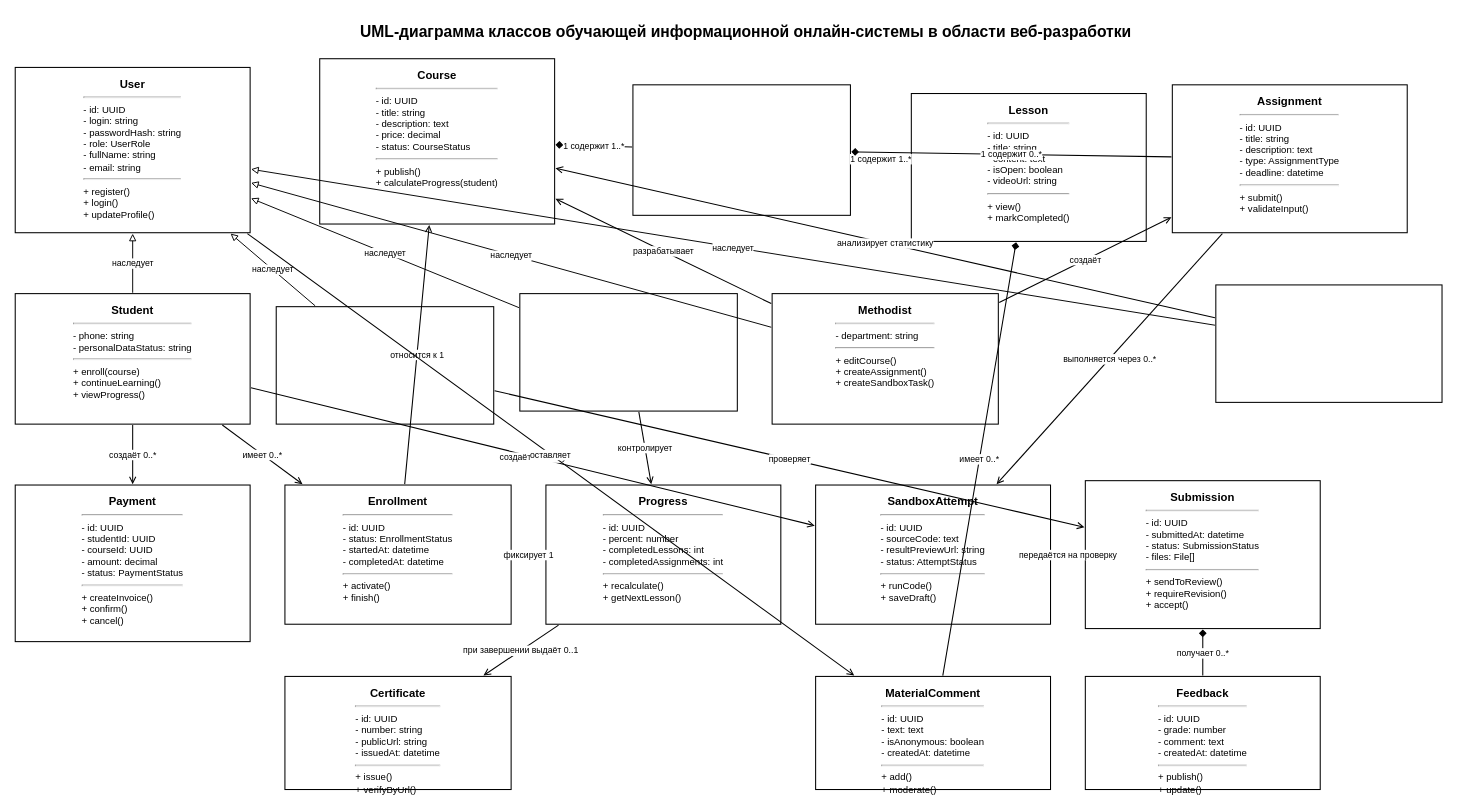
Some shapes in this 1475 by 810 pixel diagram are drawn without their labels. Here are the shapes that lost their labels. From the top down, the centre of each, then its label:
point (741, 149): CourseModule - id: UUID - title: string - order: int + addLesson() + reorder()
point (628, 352): Curator - groupId: UUID + monitorProgress() + recordIssue()
point (1328, 343): ProgramManager - programId: UUID + viewStatistics() + decideChanges()
point (384, 365): Mentor - specialization: string + reviewSubmission() + commentWork()
